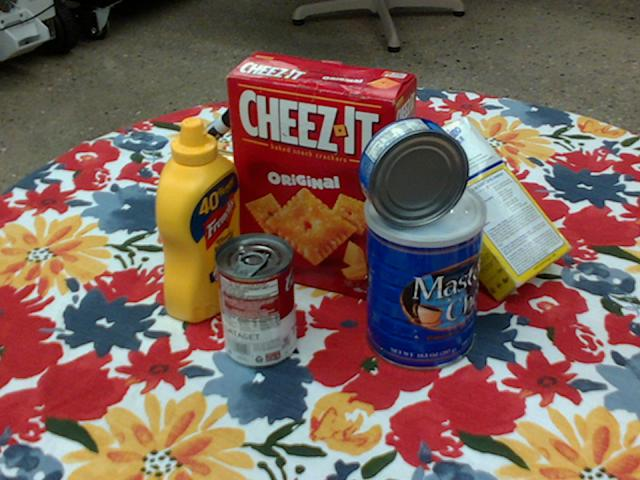cracker_box: (228, 52, 419, 299)
gelatin_box: (222, 144, 305, 211)
large_marker: (169, 100, 249, 171)
master_chef_can: (363, 179, 485, 373)
mug: (372, 135, 458, 235)
mustard_bottle: (155, 118, 243, 323)
potted_meat_can: (157, 148, 244, 263)
sugar_box: (392, 117, 572, 304)
tomato_soup_can: (213, 233, 295, 368)
tuna_fish_can: (360, 118, 470, 228)
